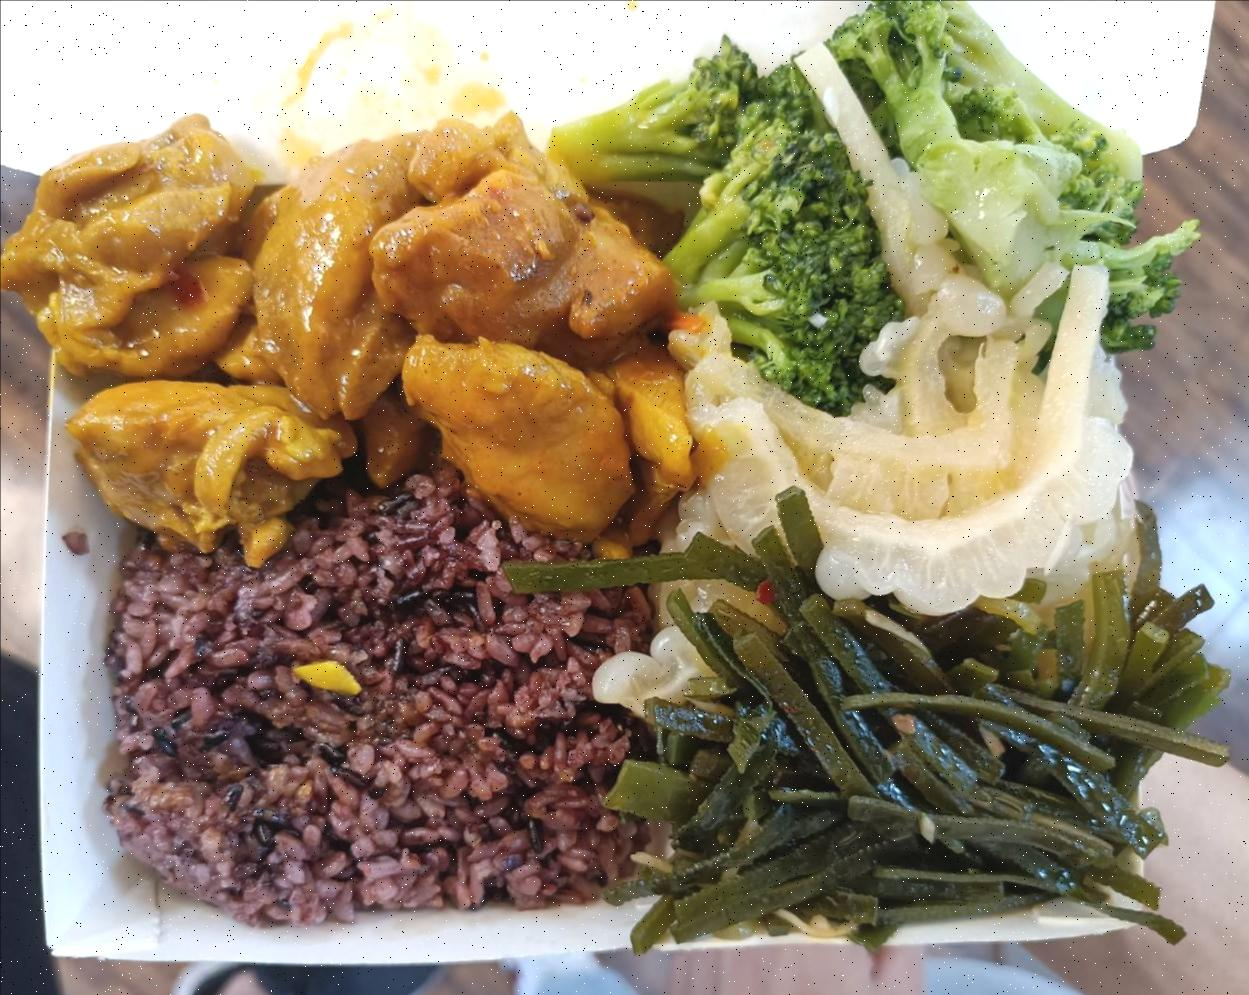box: (0, 76, 1230, 985)
curry chicken: (8, 113, 692, 546)
purple rice: (103, 486, 649, 927)
side dish: (612, 581, 1214, 926), (645, 39, 1134, 385), (673, 325, 1134, 615)
